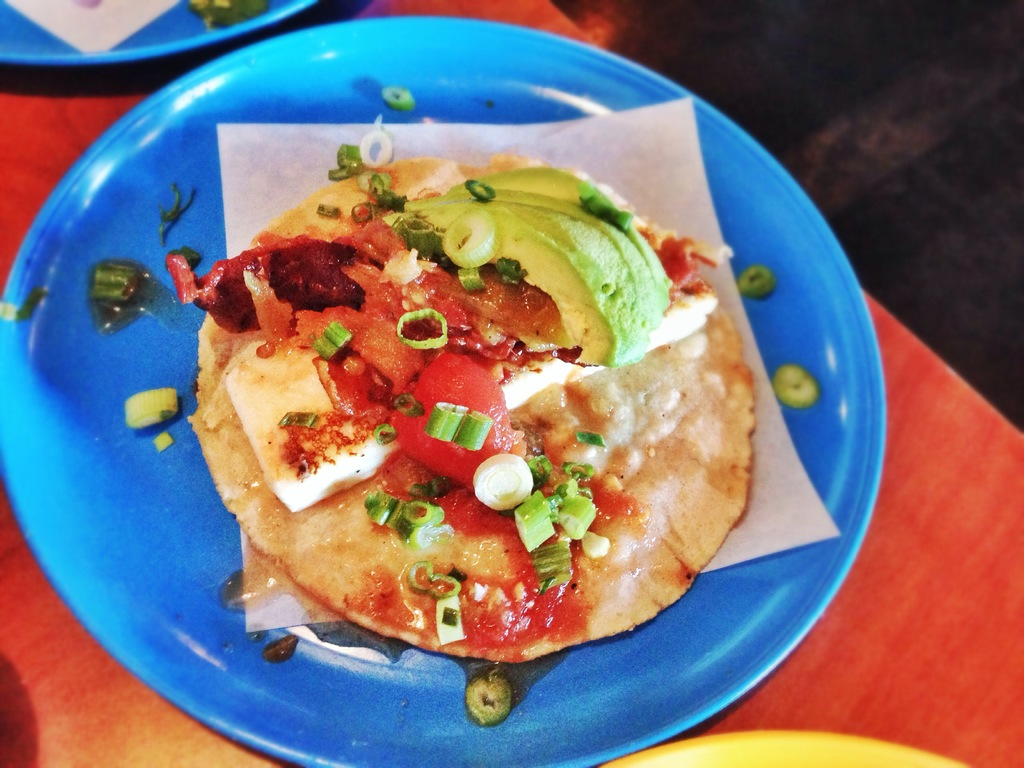taco: (190, 135, 707, 719)
